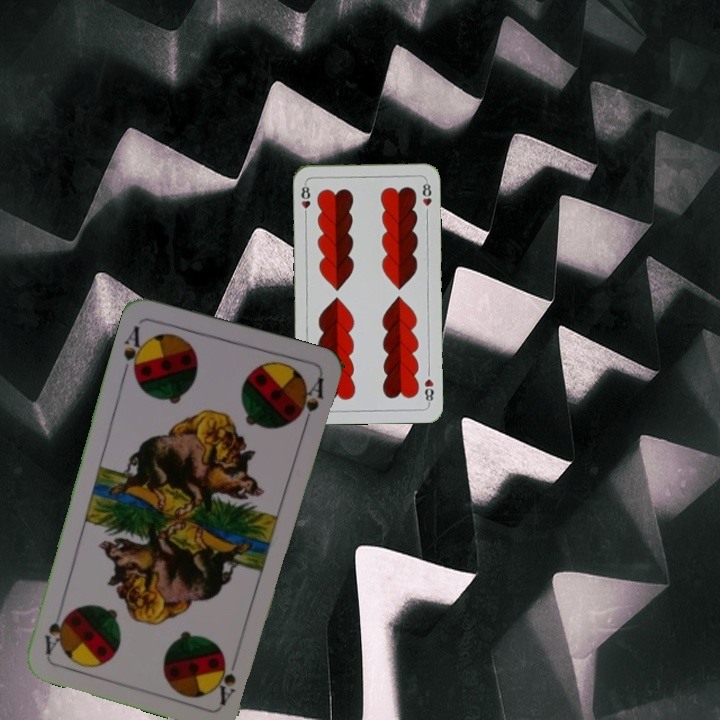H8: (297, 179, 313, 220), (421, 375, 436, 407)
SA: (119, 321, 150, 379), (212, 649, 241, 708)
